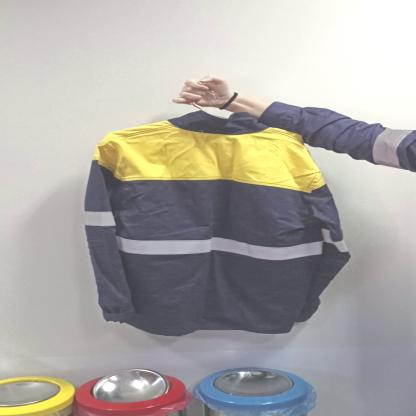C_eletrica: (84, 108, 353, 338)
